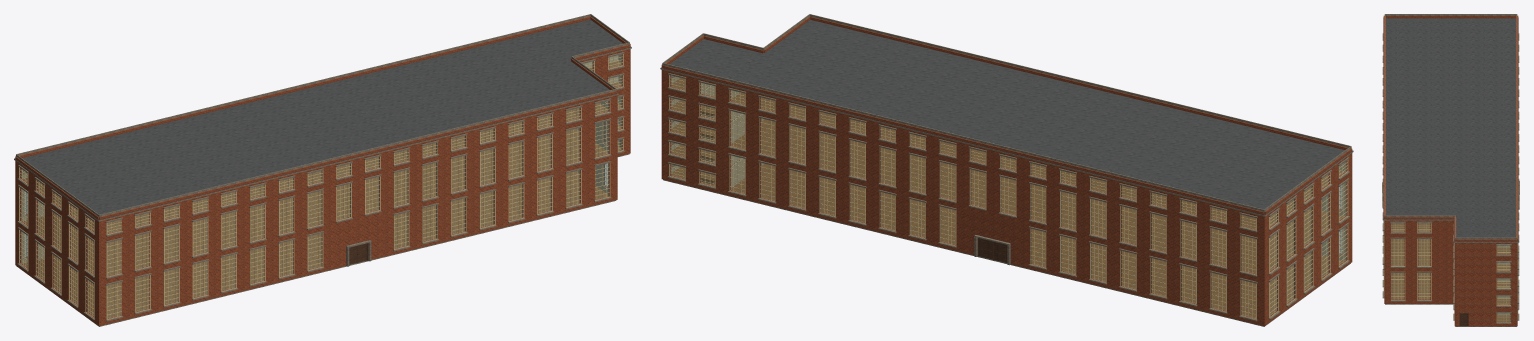
The model's file is boott-mill-four.gltf.
The picture shows the model from 3 angles, left to right: view 1: azimuth 30°, elevation 25°; view 2: azimuth 150°, elevation 25°; view 3: azimuth 270°, elevation 25°; orthographic projection. The views are drawn at different scales.
Visible parts, largest first — view 1: roof-L5-felt, exterior-L4-brick, glazing-L2-glass, exterior-L2-brick, exterior-L0-brick, floor-L2-wood, exterior-L1-brick, glazing-L0-glass, facade-trim-L2-sash, exterior-L3-brick, floor-L0-wood, facade-trim-L0-sash (+14 smaller); view 2: roof-L5-felt, exterior-L4-brick, glazing-L2-glass, exterior-L2-brick, exterior-L0-brick, floor-L2-wood, exterior-L1-brick, glazing-L0-glass, exterior-L3-brick, facade-trim-L2-sash, floor-L0-wood, facade-trim-L0-sash (+14 smaller); view 3: roof-L5-felt, roof-trim-L5-brick, exterior-L4-brick, exterior-L2-brick, exterior-L3-brick, exterior-L1-brick, exterior-L0-brick, roof-trim-L5-stone, facade-trim-L4-stone, glazing-L2-glass, glazing-L0-glass, floor-L2-wood (+20 smaller).
Part boxes in pixels (x1,y1,x2,y2): roof-L5-felt: [14, 19, 631, 220]; exterior-L4-brick: [15, 49, 630, 241]; glazing-L2-glass: [22, 97, 621, 275]; exterior-L2-brick: [15, 91, 630, 283]; exterior-L0-brick: [15, 133, 630, 326]; floor-L2-wood: [24, 103, 621, 275]; exterior-L1-brick: [15, 112, 630, 304]; glazing-L0-glass: [22, 139, 621, 318]; facade-trim-L2-sash: [19, 96, 623, 277]; exterior-L3-brick: [15, 69, 630, 262]; floor-L0-wood: [24, 146, 620, 317]; facade-trim-L0-sash: [19, 139, 623, 319]; roof-L5-felt: [661, 20, 1352, 215]; exterior-L4-brick: [661, 70, 1352, 237]; glazing-L2-glass: [670, 111, 1346, 273]; exterior-L2-brick: [661, 114, 1352, 281]; exterior-L0-brick: [661, 158, 1352, 325]; floor-L2-wood: [671, 119, 1342, 272]; exterior-L1-brick: [661, 136, 1352, 303]; glazing-L0-glass: [670, 156, 1346, 317]; exterior-L3-brick: [661, 91, 1352, 259]; facade-trim-L2-sash: [669, 110, 1348, 274]; floor-L0-wood: [671, 164, 1342, 317]; facade-trim-L0-sash: [669, 155, 1348, 319]; roof-L5-felt: [1383, 17, 1518, 241]; roof-trim-L5-brick: [1383, 15, 1518, 241]; exterior-L4-brick: [1384, 220, 1517, 258]; exterior-L2-brick: [1384, 254, 1517, 292]; exterior-L3-brick: [1384, 237, 1517, 275]; exterior-L1-brick: [1384, 271, 1517, 309]; exterior-L0-brick: [1384, 287, 1517, 326]; roof-trim-L5-stone: [1384, 14, 1517, 239]; facade-trim-L4-stone: [1382, 33, 1519, 256]; glazing-L2-glass: [1391, 239, 1510, 287]; glazing-L0-glass: [1391, 273, 1510, 321]; floor-L2-wood: [1392, 239, 1509, 287].
Bounding box in the file's own units: 60.5 × 11.18 × 15.62.
Materials: 9 (8 with a texture image).
